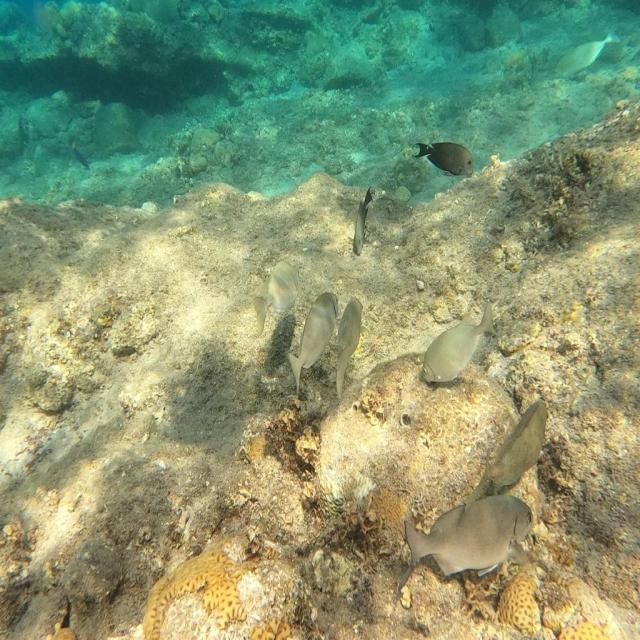Sokar Baligi: (416, 292, 503, 396), (413, 132, 480, 182)
